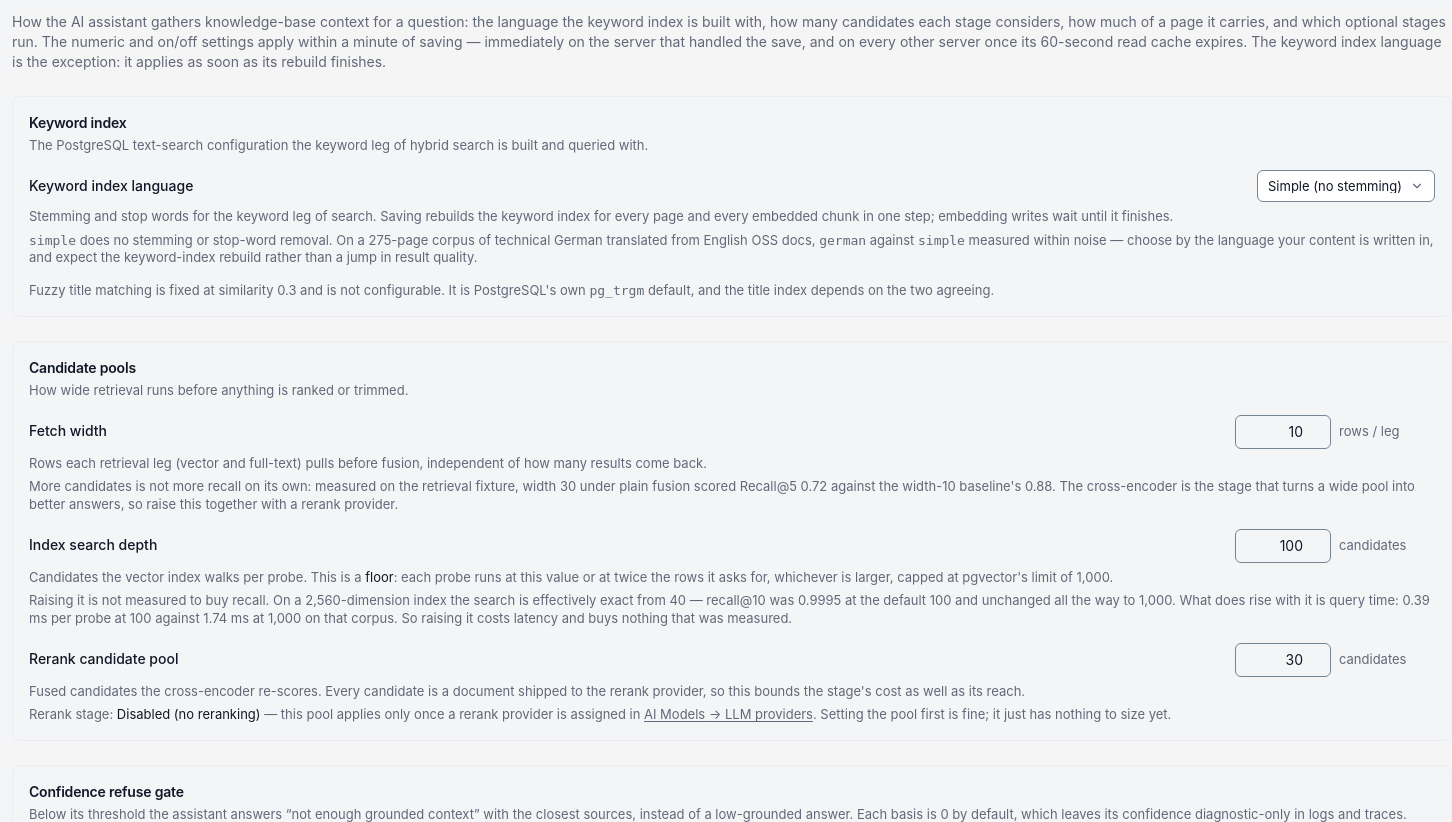
Test: RetrievalTab — keyword index language (#1114) › re-reads the server when a save fails, so it cannot show a value the database lacks
Select "German" in the dropdown with test id "retrieval-ftsLanguage" at (1346, 186), box [1257, 170, 1435, 202]
(page scrolled)
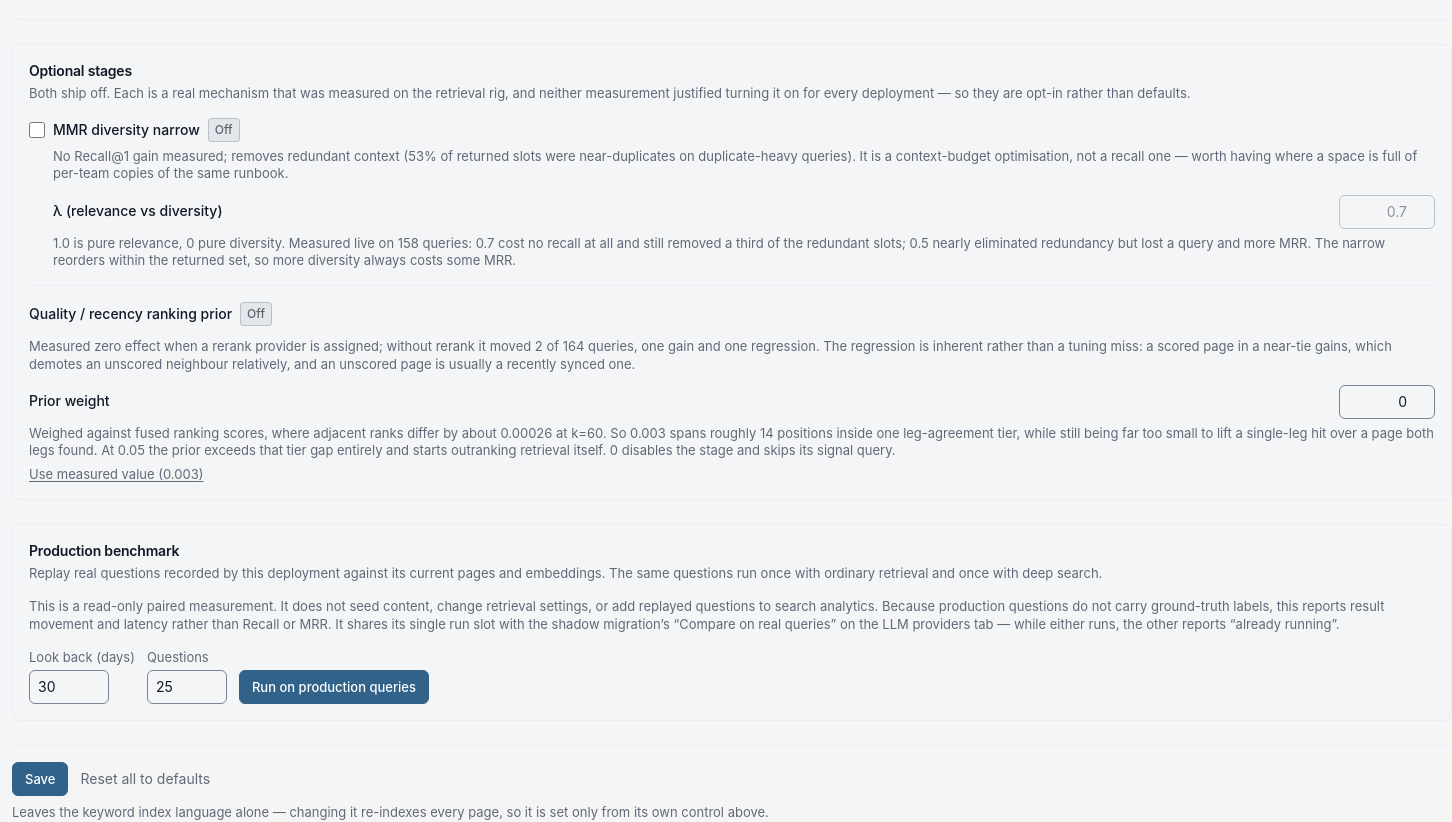
Click the button with test id "retrieval-save-btn" at (40, 779), box [12, 762, 68, 796]
(page scrolled)
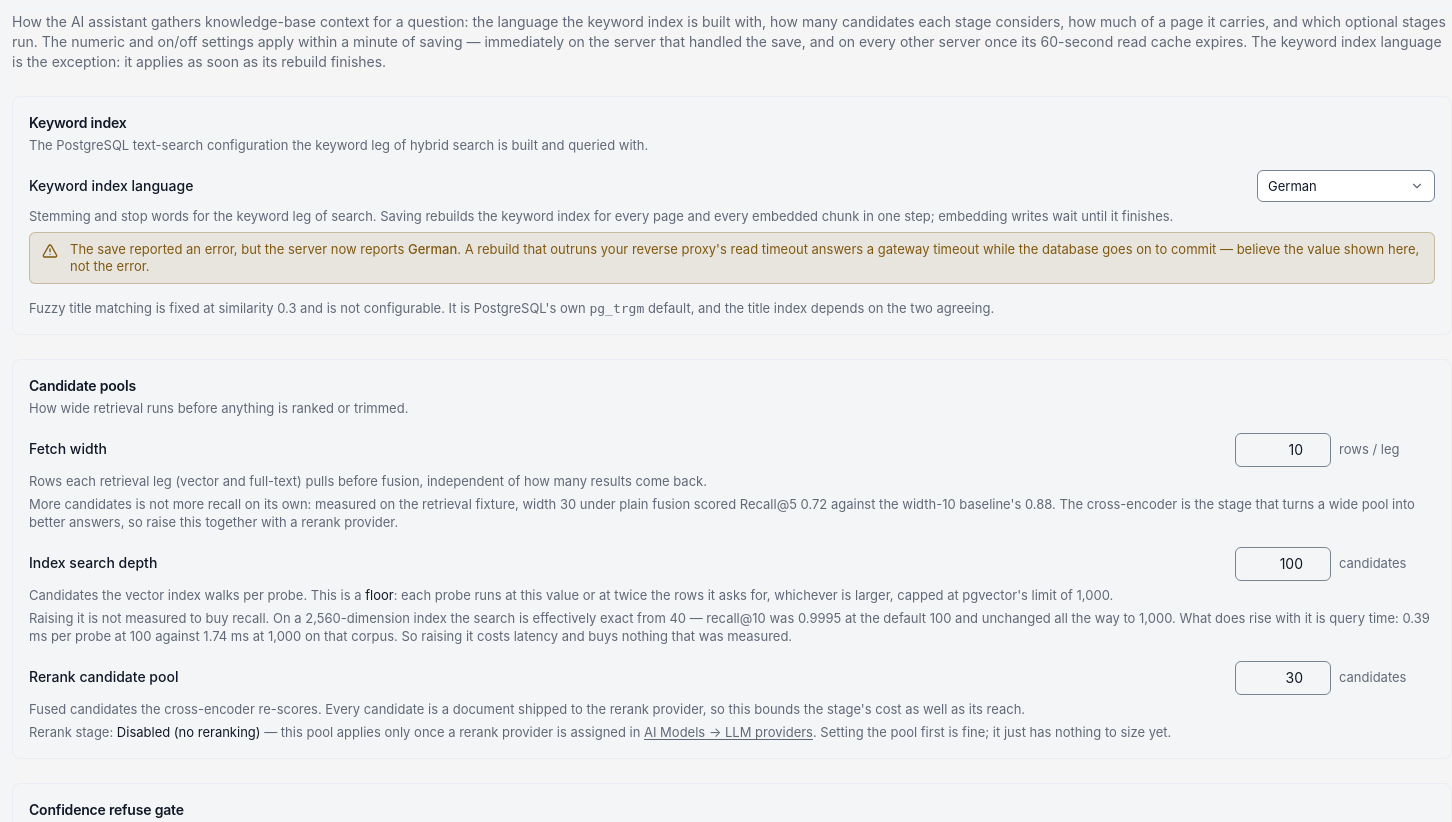
expect the message with test id "retrieval-fts-save-failed" shows "server now reports": met, box [70, 241, 404, 257]
expect the message with test id "retrieval-fts-save-failed" shows "German": met, box [408, 241, 457, 257]
expect the message with test id "retrieval-fts-save-failed" shows "believe the value shown here, not the error": met, box [70, 241, 1419, 274]
